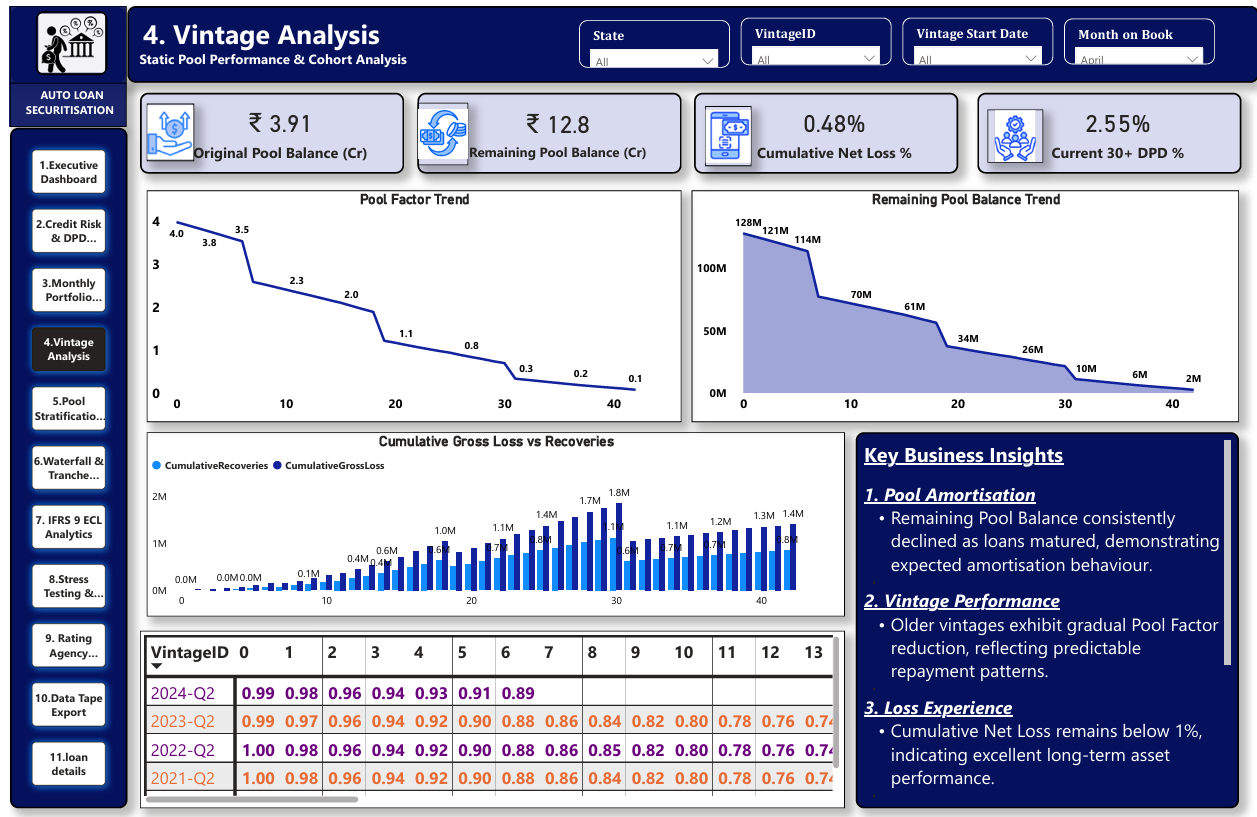

The dashboard page shown, as its layout file describes it:
{"tool":"powerbi","page":{"name":" 4.Vintage Analysis","canvas":[1500,1000],"ordinal":3},"visuals":[{"type":"shape","box":[0,0,139.9,92.9],"z":0},{"type":"textbox","box":[140.8,0,1358.9,92.2],"z":1000},{"type":"image","box":[31.4,6,85.7,77.2],"z":2000},{"type":"textbox","box":[0,91.7,139.9,53.1],"z":3000},{"type":"slicer","fields":{"Values":["Loan Master.State"]},"box":[682.8,16.9,181,56.7],"z":4000},{"type":"slicer","fields":{"Values":["Vintage Data.VintageID"]},"box":[877.1,14.5,181,56.7],"z":5000},{"type":"slicer","fields":{"Values":["Vintage Data.VintageStartDate"]},"box":[1071.3,14.5,181,56.7],"z":6000},{"type":"slicer","fields":{"Values":["Vintage Data.Month Name"]},"box":[1265.1,15.1,181,55.3],"z":7000},{"type":"card","fields":{"Values":["Vintage Data.Original Pool Balance (Cr)"]},"box":[155.8,103.9,316.7,97.2],"z":8000},{"type":"card","fields":{"Values":["Vintage Data.Remaining Pool Balance (Cr)"]},"box":[489.3,103.9,316.7,97.2],"z":9000},{"type":"card","fields":{"Values":["Vintage Data.Cumulative Net Loss %"]},"box":[821,103.9,316.7,97.2],"z":10000},{"type":"card","fields":{"Values":["Vintage Data.Current 30+ DPD %"]},"box":[1161.2,103.9,316.7,97.2],"z":11000},{"type":"pageNavigator","box":[0,145.8,140.8,816],"z":12000},{"type":"image","box":[1172.9,124,67,63.7],"z":13000},{"type":"image","box":[834,120,56,72],"z":14000},{"type":"lineChart","title":"Pool Factor Trend","fields":{"Category":["Vintage Data.MonthsOnBook"],"Y":["Sum(Vintage Data.PoolFactor)"]},"box":[164.2,221.2,641.8,278.2],"z":15000},{"type":"areaChart","title":"Remaining Pool Balance Trend","fields":{"Category":["Vintage Data.MonthsOnBook"],"Y":["Sum(Vintage Data.RemainingPoolBalance)"]},"box":[817.7,221.2,656.8,278.2],"z":16000},{"type":"clusteredColumnChart","title":"Cumulative Gross Loss vs Recoveries","fields":{"Category":["Vintage Data.MonthsOnBook"],"Y":["Sum(Vintage Data.CumulativeRecoveries)","Sum(Vintage Data.CumulativeGrossLoss)"]},"box":[164.2,511.1,837.8,221.2],"z":17000},{"type":"pivotTable","fields":{"Rows":["Vintage Data.VintageID"],"Columns":["Vintage Data.MonthsOnBook"],"Values":["Sum(Vintage Data.PoolFactor)"]},"box":[155.8,749,846.2,212.8],"z":18000},{"type":"image","box":[164.2,117.3,57,68.7],"z":19000},{"type":"image","box":[489.3,115.6,60.3,75.4],"z":20000},{"type":"textbox","box":[1015.4,511.1,459.1,450.7],"z":21000}]}

Visuals, with their boxes on the page's 1500x1000 design canvas (x1, y1, x2, y2). These are canvas units, not pixel positions in the 1257x817 screenshot, which may show the page scaled, cropped or inside an application window:
shape: l=0, t=0, r=140, b=93
textbox: l=141, t=0, r=1500, b=92
image: l=31, t=6, r=117, b=83
textbox: l=0, t=92, r=140, b=145
slicer - Loan Master.State: l=683, t=17, r=864, b=74
slicer - Vintage Data.VintageID: l=877, t=14, r=1058, b=71
slicer - Vintage Data.VintageStartDate: l=1071, t=14, r=1252, b=71
slicer - Vintage Data.Month Name: l=1265, t=15, r=1446, b=70
card - Vintage Data.Original Pool Balance (Cr): l=156, t=104, r=472, b=201
card - Vintage Data.Remaining Pool Balance (Cr): l=489, t=104, r=806, b=201
card - Vintage Data.Cumulative Net Loss %: l=821, t=104, r=1138, b=201
card - Vintage Data.Current 30+ DPD %: l=1161, t=104, r=1478, b=201
pageNavigator: l=0, t=146, r=141, b=962
image: l=1173, t=124, r=1240, b=188
image: l=834, t=120, r=890, b=192
"Pool Factor Trend" lineChart: l=164, t=221, r=806, b=499
"Remaining Pool Balance Trend" areaChart: l=818, t=221, r=1474, b=499
"Cumulative Gross Loss vs Recoveries" clusteredColumnChart: l=164, t=511, r=1002, b=732
pivotTable - Vintage Data.VintageID x Vintage Data.MonthsOnBook: l=156, t=749, r=1002, b=962
image: l=164, t=117, r=221, b=186
image: l=489, t=116, r=550, b=191
textbox: l=1015, t=511, r=1474, b=962
